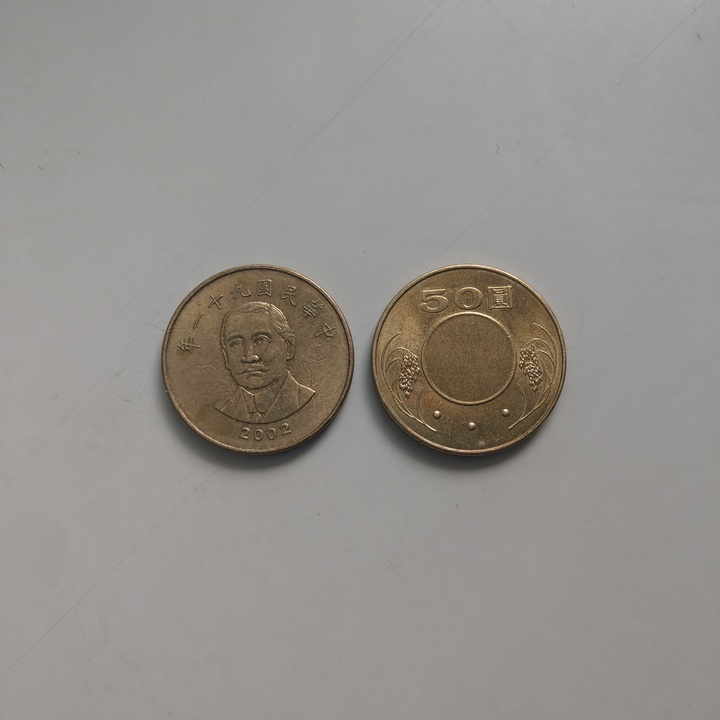50 dollar: (370, 263, 571, 456), (159, 264, 356, 458)
